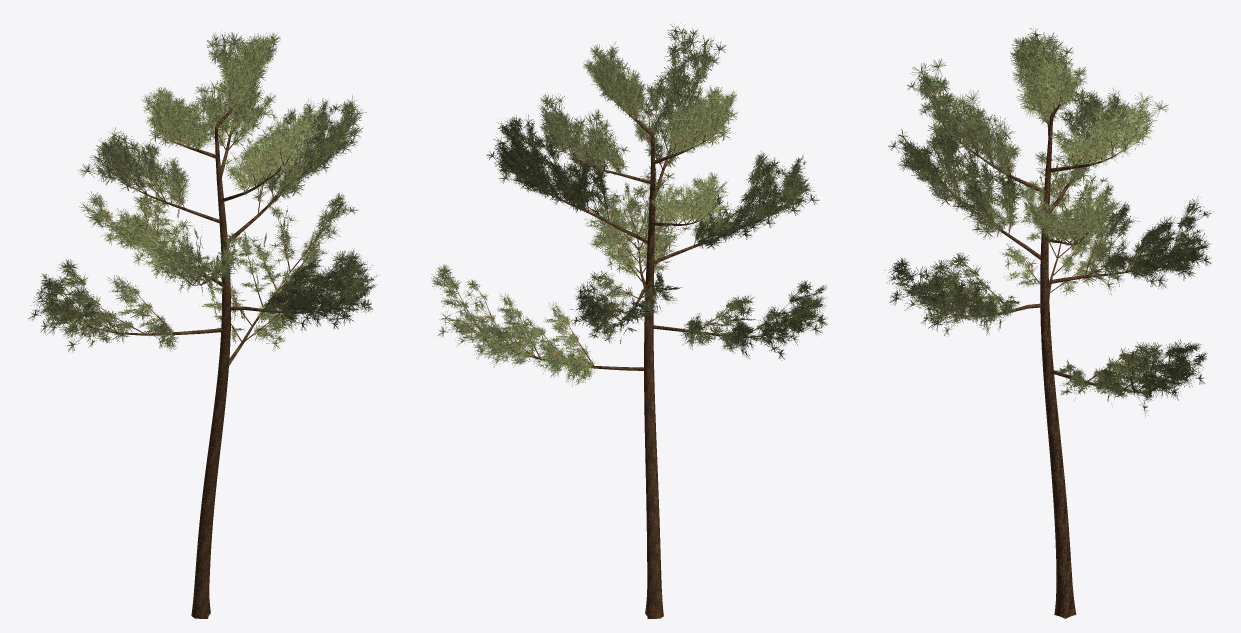
Rendered from tree_pine_v0_l0.glb.
3 views of the same model, side by side, from view 1: azimuth 30°, elevation 25°; view 2: azimuth 150°, elevation 25°; view 3: azimuth 270°, elevation 25° (orthographic). The views are drawn at different scales.
Parts seen in each view (by area): view 1: tree_pine_v0_l0; view 2: tree_pine_v0_l0; view 3: tree_pine_v0_l0.
Boxes of the visible parts, left/top/right/bottom form: tree_pine_v0_l0: left=28, top=32, right=379, bottom=618; tree_pine_v0_l0: left=431, top=23, right=827, bottom=618; tree_pine_v0_l0: left=885, top=25, right=1213, bottom=618.
Size of the model in its own units: 9.39 by 13.57 by 7.39.
2 materials, 2 textured.
